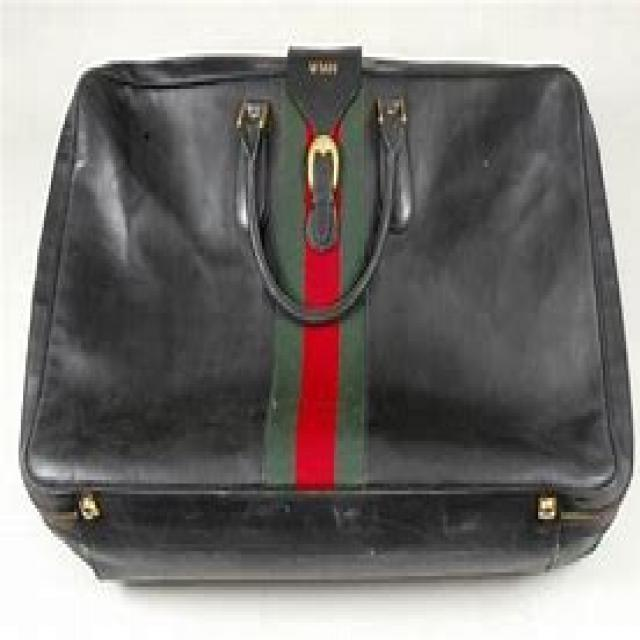Suitcase: (20, 45, 635, 598)
